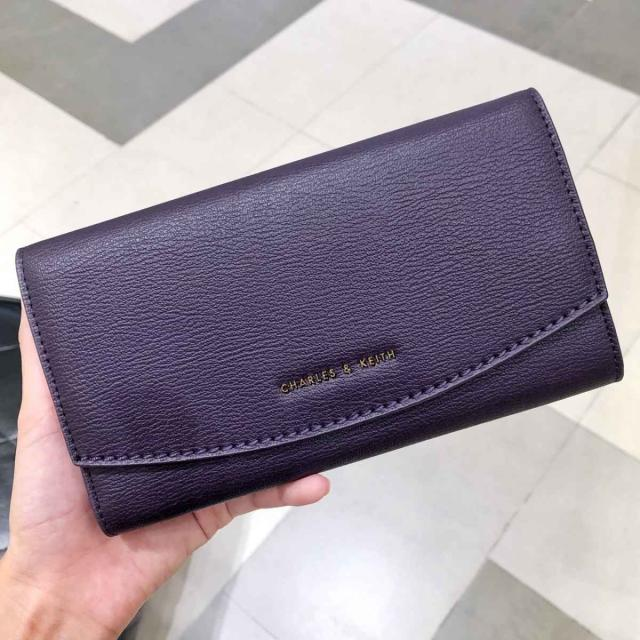Handbag: (13, 88, 626, 544)
